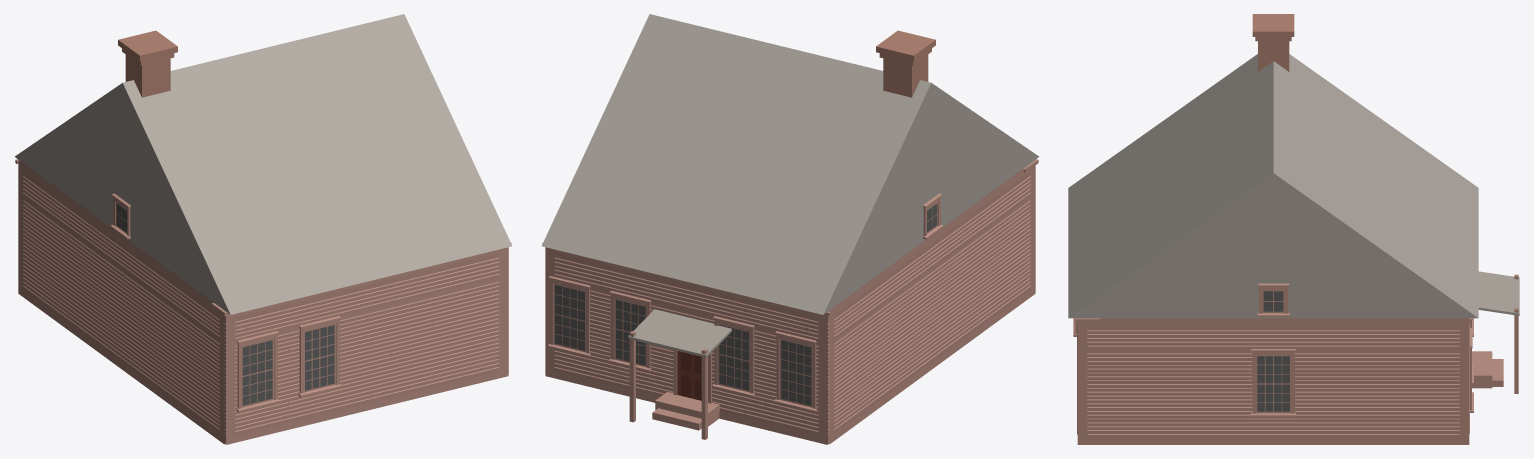
File: recon_1835_south_h1_029__inferred_1835.glb
The picture shows the model from 3 angles, left to right: view 1: azimuth 30°, elevation 25°; view 2: azimuth 150°, elevation 25°; view 3: azimuth 270°, elevation 25°; orthographic projection. The views are drawn at different scales.
Visible parts, largest first — view 1: recon_1835_south_h1_029__inferred_1835; view 2: recon_1835_south_h1_029__inferred_1835; view 3: recon_1835_south_h1_029__inferred_1835.
Part boxes in pixels (left/top/right/bottom): recon_1835_south_h1_029__inferred_1835: left=14, top=14, right=511, bottom=444; recon_1835_south_h1_029__inferred_1835: left=542, top=14, right=1039, bottom=444; recon_1835_south_h1_029__inferred_1835: left=1068, top=14, right=1519, bottom=444.
Bounding box in the file's own units: 8.53 × 9 × 12.14.
